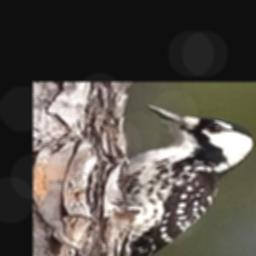Woodpecker: (101, 102, 256, 256)
